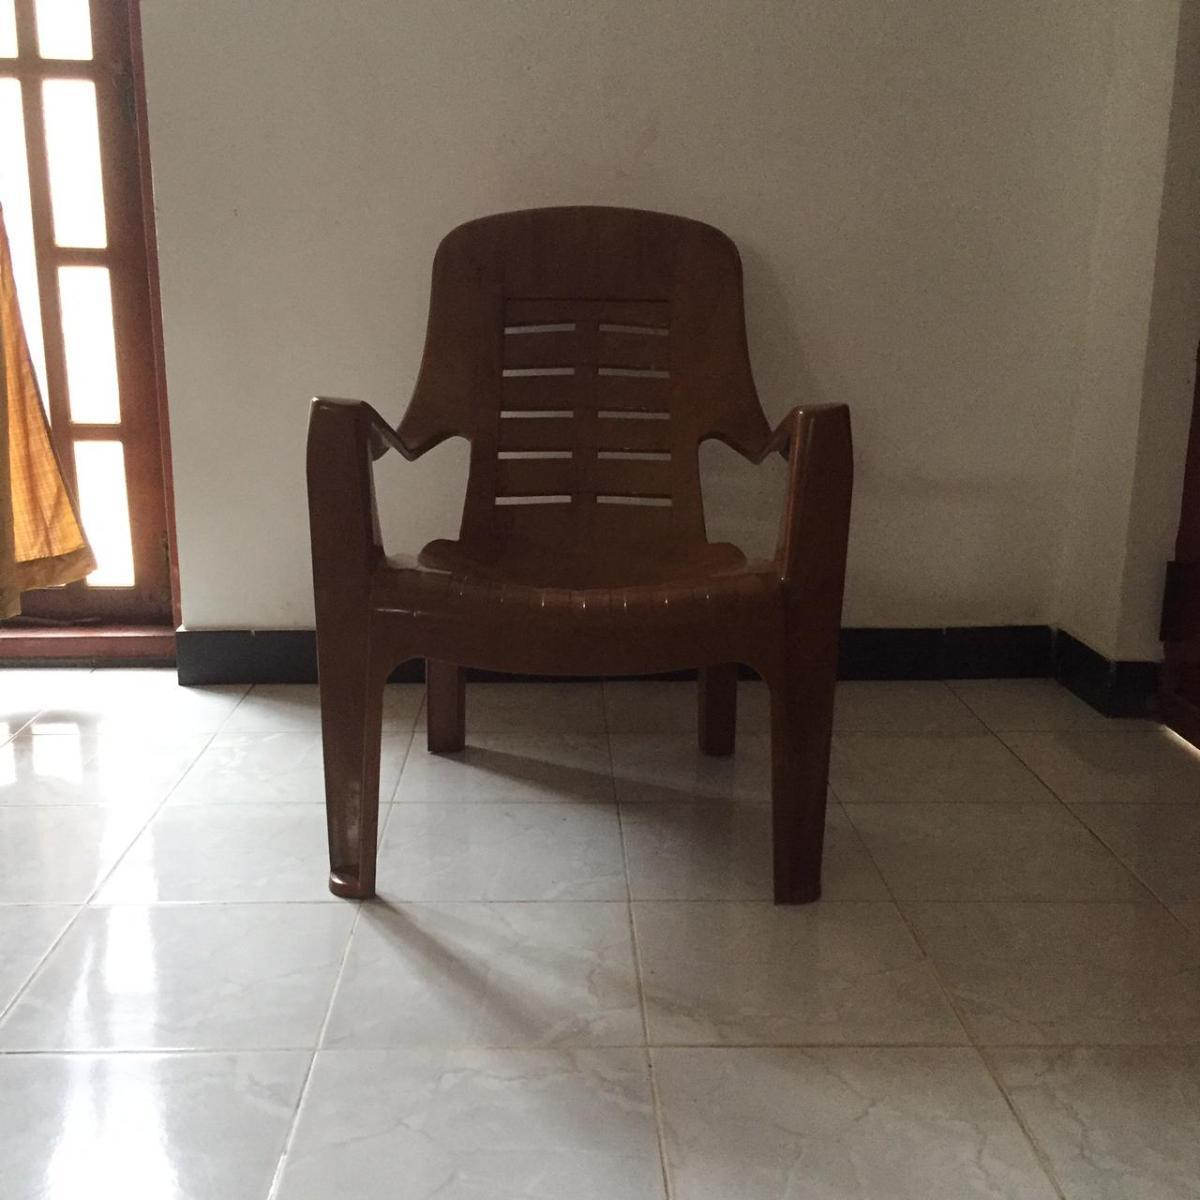Chair: (304, 202, 853, 902)
